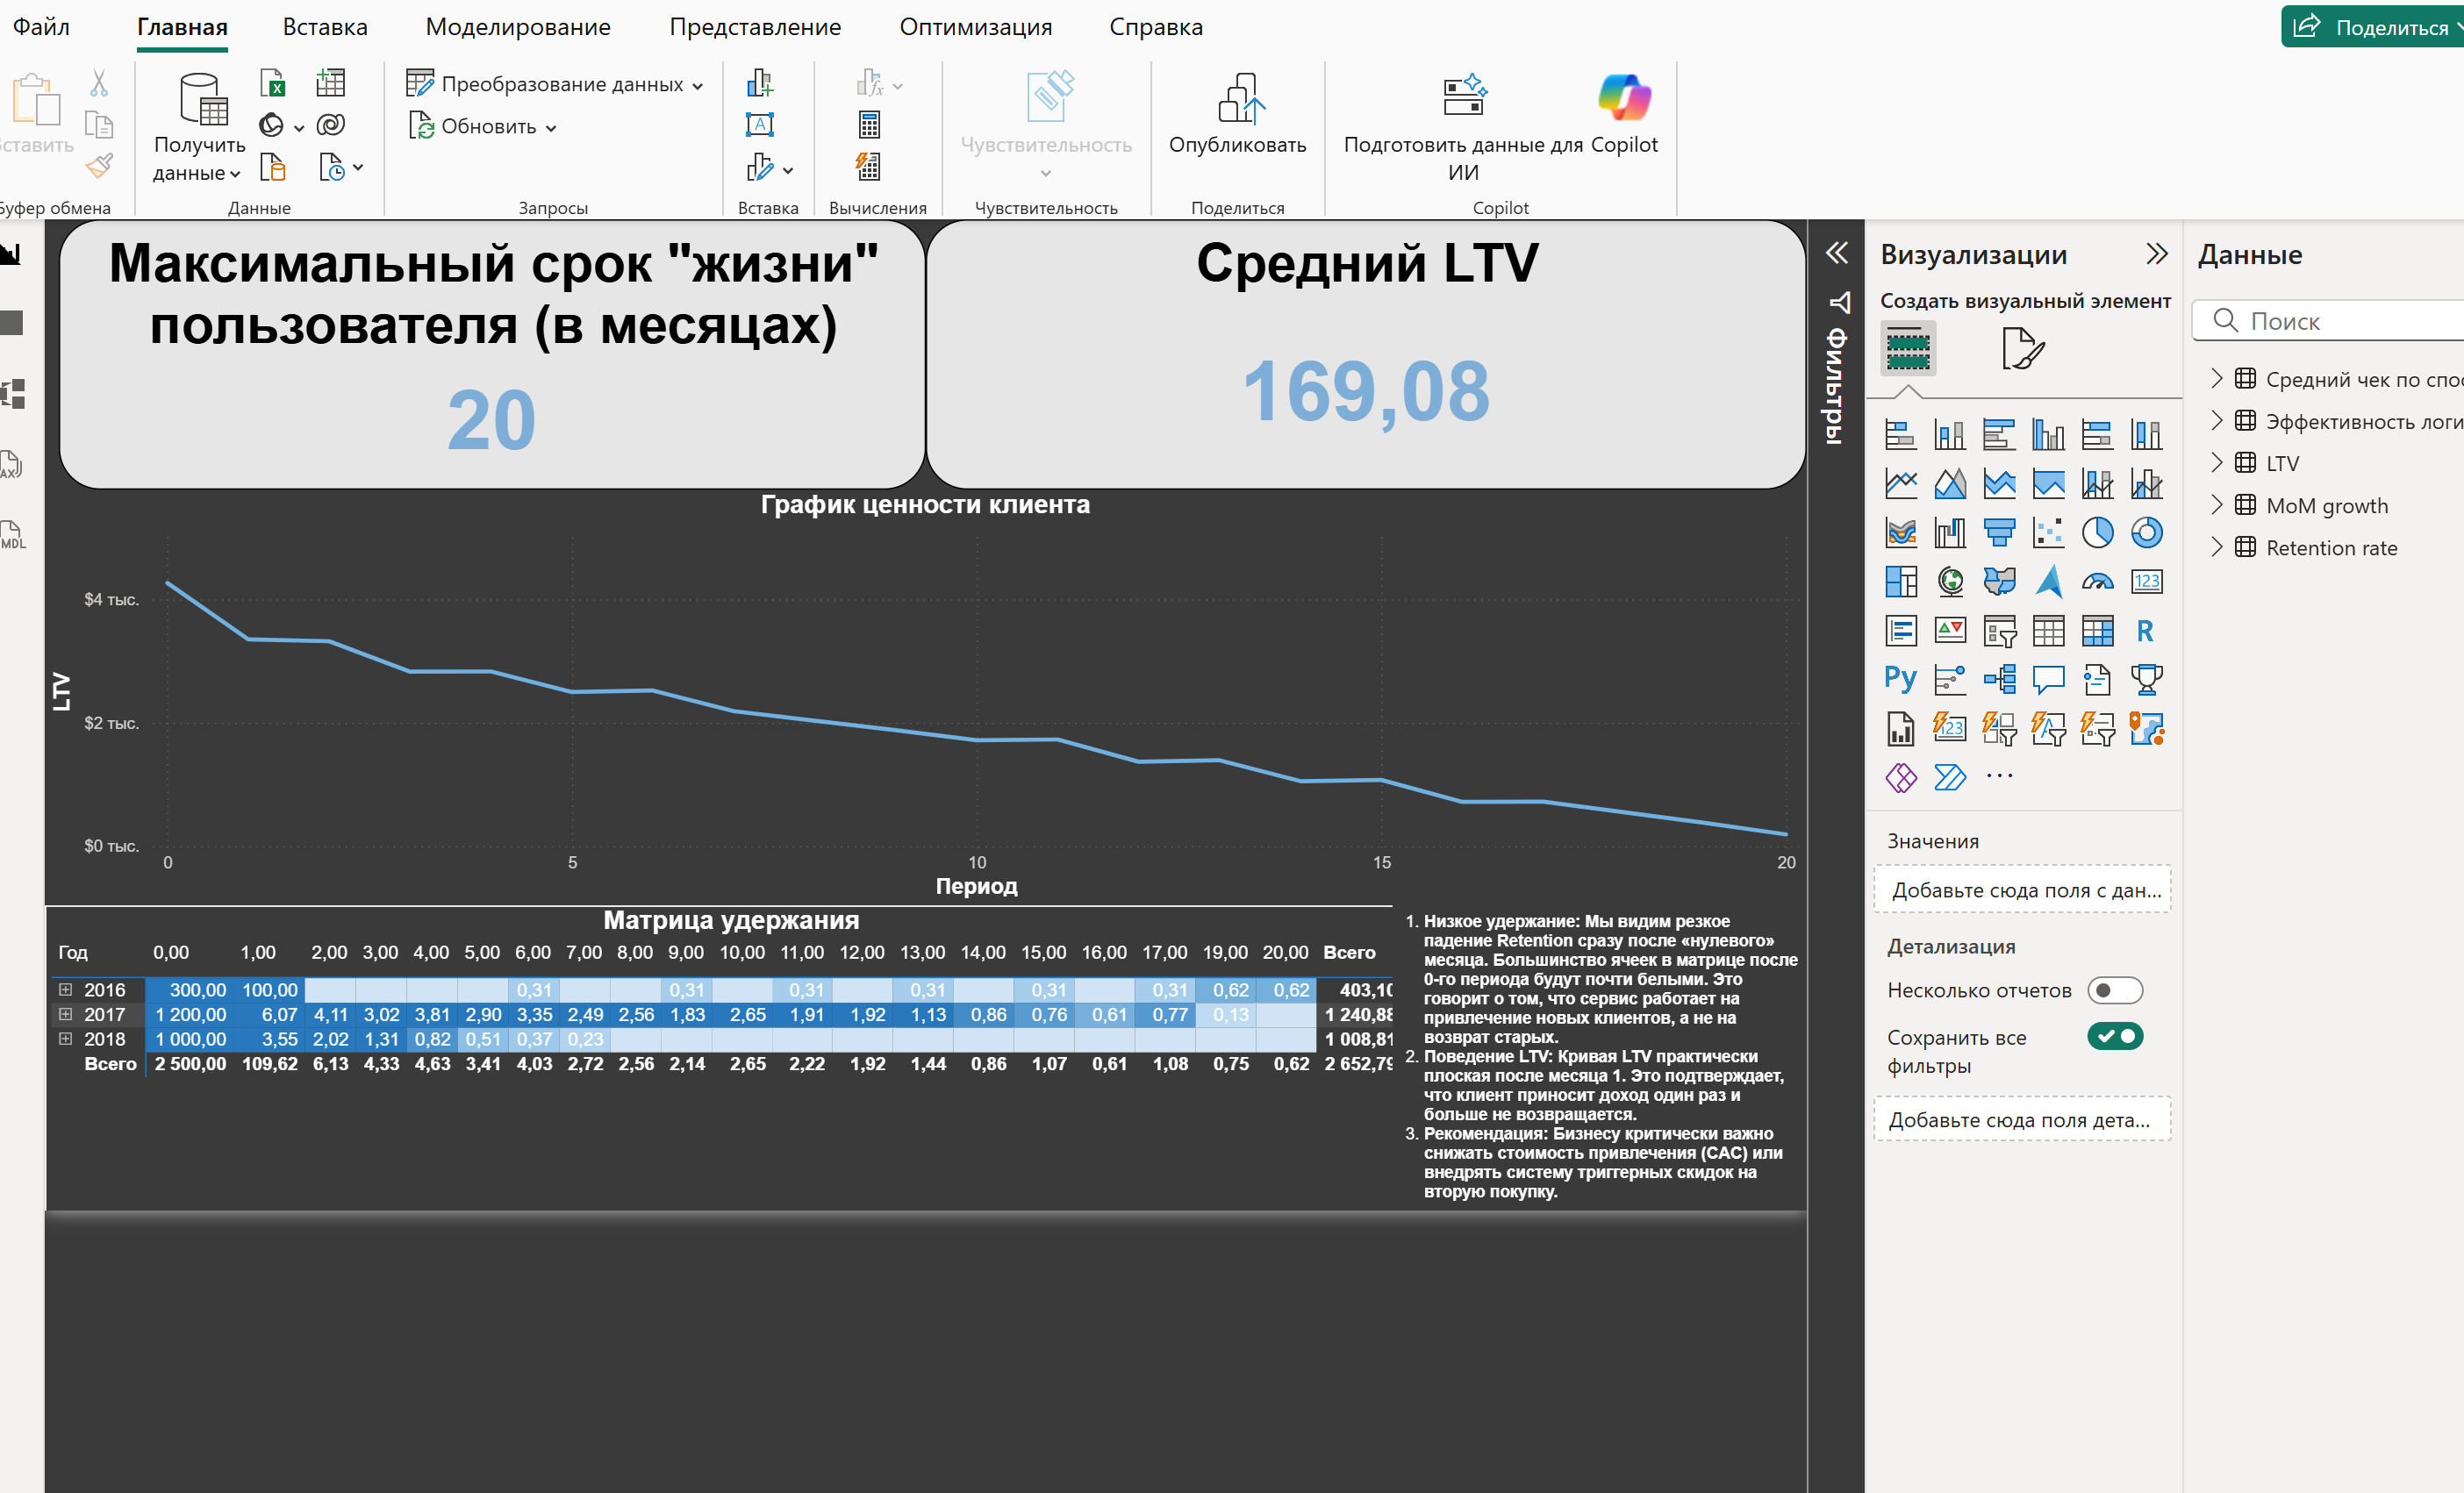

The page's visual inventory and layout, read from the dashboard file:
{"tool":"powerbi","page":{"name":"Retention rate и LTV","canvas":[1280,720],"ordinal":2},"visuals":[{"type":"pivotTable","title":"Матрица удержания","fields":{"Rows":["Retention rate.cohort_month.Изменение.Иерархия дат.Год","Retention rate.cohort_month.Изменение.Иерархия дат.Месяц"],"Columns":["Retention rate.period_number"],"Values":["Sum(Retention rate.retention_rate)"]},"box":[0,498.5,998.2,229.5],"z":0},{"type":"lineChart","title":"График ценности клиента","fields":{"Category":["LTV.period_number"],"Y":["Sum(LTV.cumulative_ltv)"]},"box":[0,196.3,1280,302.2],"z":1000},{"type":"card","title":"Максимальный срок \"жизни\" пользователя (в  месяцах)","fields":{"Values":["LTV.max_period_number"]},"box":[10.2,0,629.8,196.3],"z":2000},{"type":"card","title":"Средний LTV","fields":{"Values":["LTV.avg_ltv"]},"box":[640,0,640,196.3],"z":3000},{"type":"textbox","box":[979.1,498.5,300.9,221.8],"z":3001}]}

Visuals, with their boxes on the page's 1280x720 design canvas (x1, y1, x2, y2). These are canvas units, not pixel positions in the 2464x1493 screenshot, which may show the page scaled, cropped or inside an application window:
"Матрица удержания" pivotTable: 0, 498, 998, 728
"График ценности клиента" lineChart: 0, 196, 1280, 498
"Максимальный срок "жизни" пользователя (в  месяцах)" card: 10, 0, 640, 196
"Средний LTV" card: 640, 0, 1280, 196
textbox: 979, 498, 1280, 720
